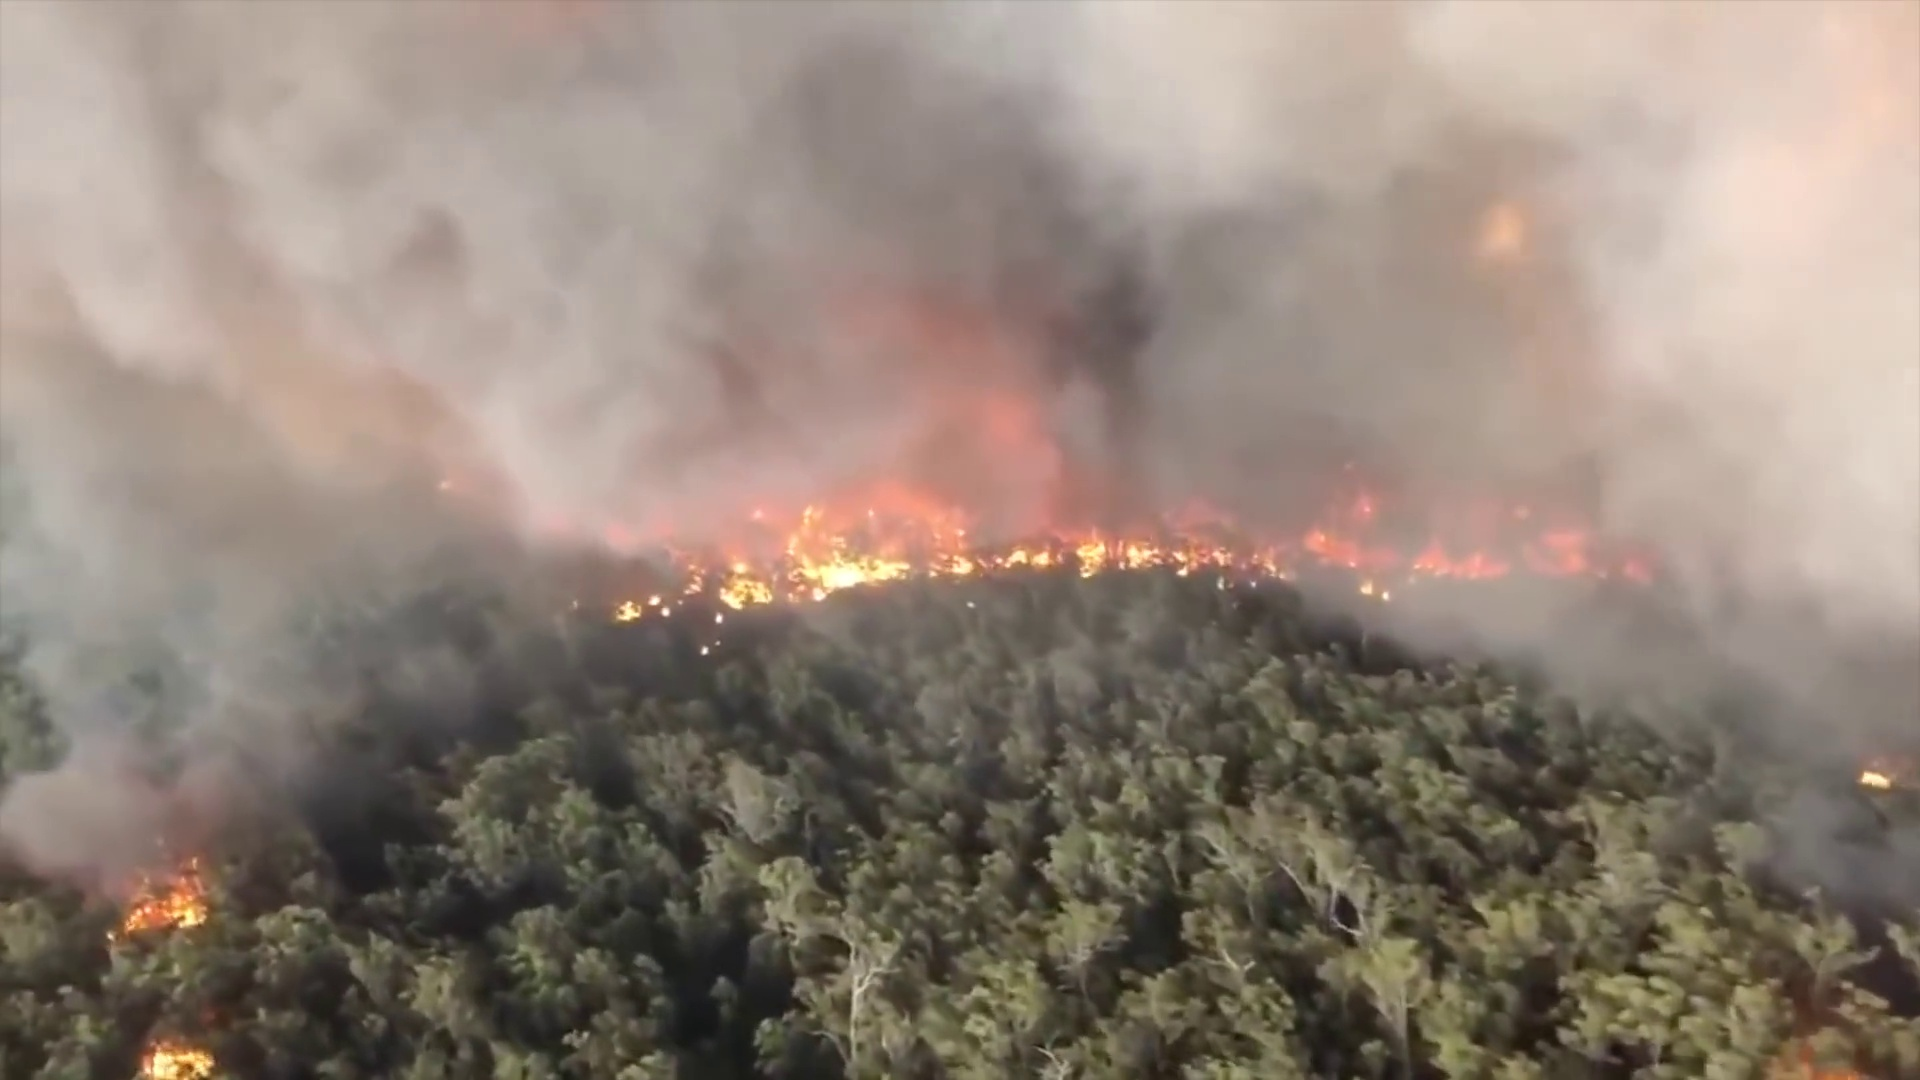fire: (713, 505, 1238, 615), (120, 876, 204, 931), (136, 1046, 216, 1080), (1859, 769, 1896, 787)
